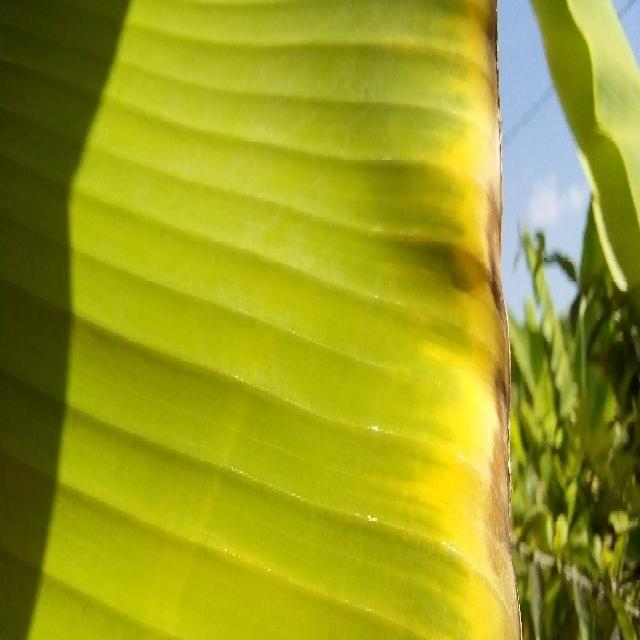Cordana: (13, 4, 519, 640)
